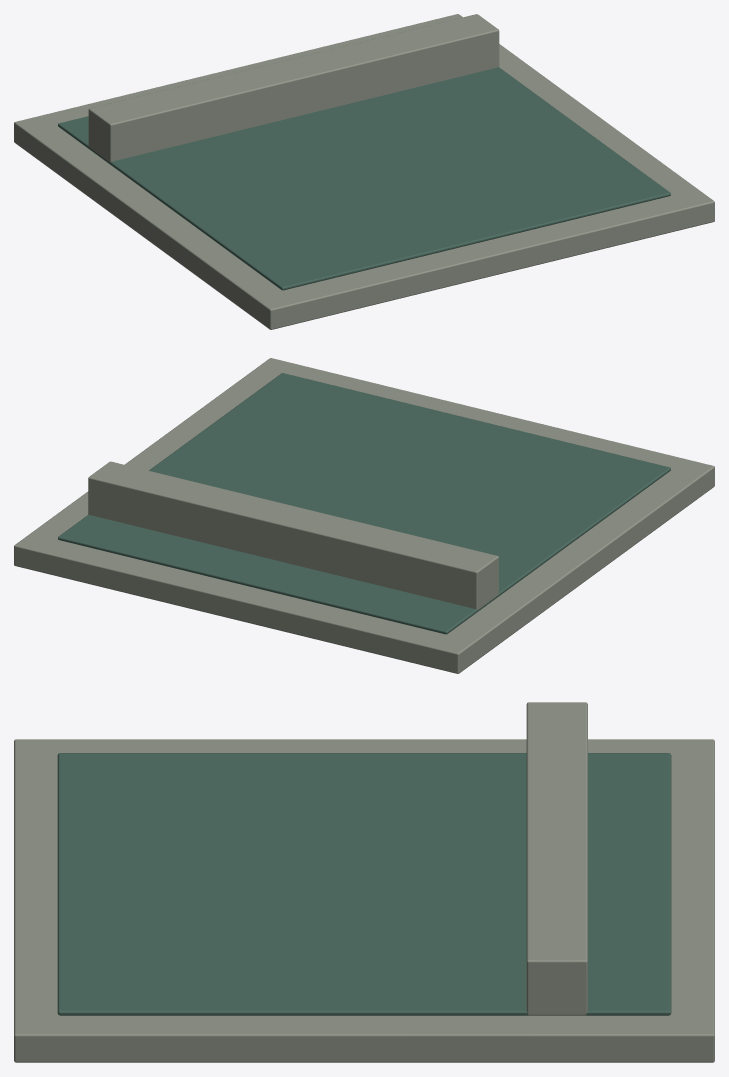
File: undercity-sewers-and-thieves-den-weir-pool-f7cf64a3__25052.glb
3 views of the same model, one above another, from view 1: azimuth 30°, elevation 25°; view 2: azimuth 150°, elevation 25°; view 3: azimuth 270°, elevation 25° (orthographic). The views are drawn at different scales.
Parts seen in each view (by area): view 1: weir-pool; view 2: weir-pool; view 3: weir-pool.
Part boxes in pixels (x1,y1,x2,y2): weir-pool: [14, 14, 714, 329]; weir-pool: [14, 358, 714, 673]; weir-pool: [14, 702, 714, 1062].
Size of the model in its own units: 4 by 0.5298 by 4.
